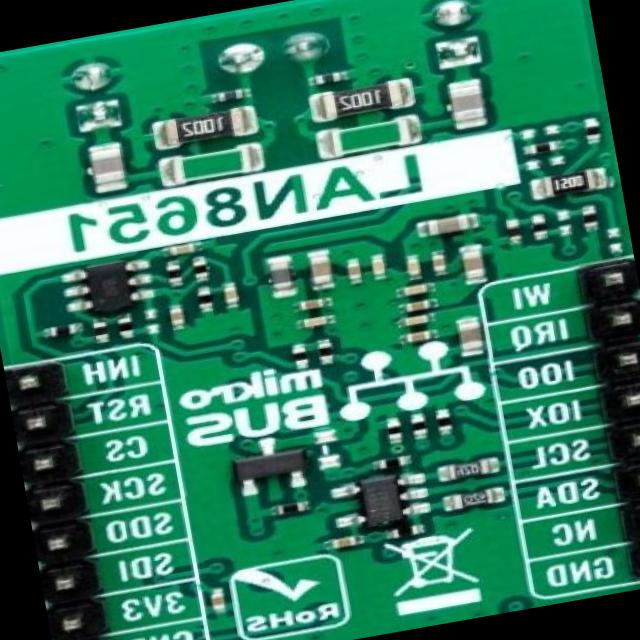IC: (64, 252, 144, 314), (347, 468, 422, 532)
capacitor: (446, 82, 488, 128), (90, 146, 129, 185), (421, 212, 473, 238), (458, 247, 488, 287), (453, 318, 484, 354), (264, 262, 294, 294), (304, 255, 331, 288), (165, 304, 186, 326), (402, 312, 430, 328), (402, 259, 423, 280), (222, 282, 240, 306), (404, 328, 428, 346), (168, 242, 196, 257), (326, 537, 355, 551), (371, 256, 389, 278), (403, 282, 426, 298), (210, 589, 227, 610), (430, 253, 450, 270), (346, 262, 362, 282), (405, 299, 430, 311)
connector: (5, 366, 111, 640), (573, 252, 640, 580)
resistor: (163, 110, 250, 148), (322, 81, 407, 118), (544, 170, 598, 196), (452, 484, 494, 512), (449, 456, 493, 478), (522, 140, 560, 160), (40, 322, 80, 340), (314, 68, 344, 86), (276, 499, 306, 516), (527, 218, 549, 241), (90, 320, 112, 343), (188, 260, 210, 282), (214, 84, 244, 100), (391, 524, 420, 540), (373, 456, 404, 470), (580, 207, 598, 230), (505, 220, 522, 244), (316, 342, 336, 362), (289, 348, 308, 368), (435, 410, 454, 430), (166, 264, 183, 285), (409, 416, 426, 436), (116, 314, 132, 335), (196, 286, 212, 306), (586, 123, 602, 141), (386, 424, 404, 438)
transistor: (229, 439, 300, 497)
